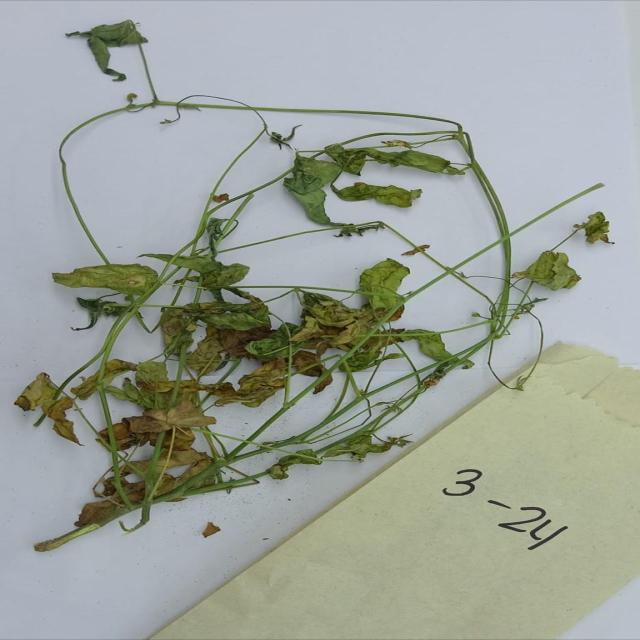Stem: (40, 110, 139, 266), (110, 89, 492, 128), (89, 449, 278, 504), (424, 102, 518, 193), (474, 187, 516, 346), (204, 125, 263, 235), (151, 223, 223, 290), (92, 303, 127, 426), (246, 420, 393, 432)
healty_leaves: (286, 156, 414, 232), (324, 139, 460, 180), (402, 330, 474, 370), (363, 252, 401, 321), (113, 362, 175, 399)
rooten_leaf: (97, 402, 209, 449), (293, 292, 410, 334), (200, 362, 292, 414), (17, 373, 78, 443), (53, 264, 153, 293), (201, 324, 265, 362), (76, 477, 175, 501), (292, 348, 332, 398), (300, 328, 368, 356), (574, 212, 618, 250), (71, 500, 122, 531), (399, 240, 429, 261)
